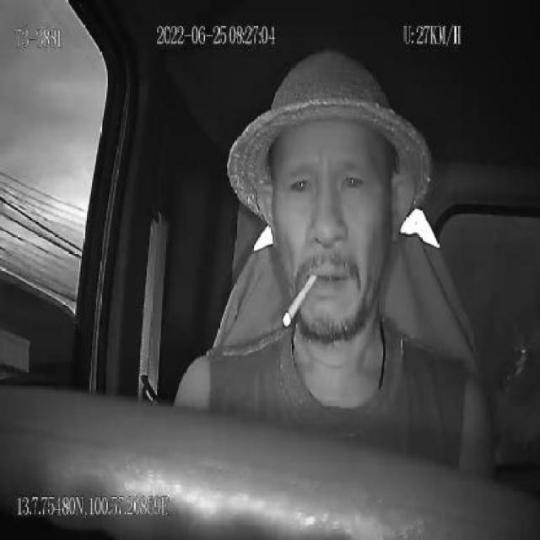smoking: (284, 273, 316, 328)
